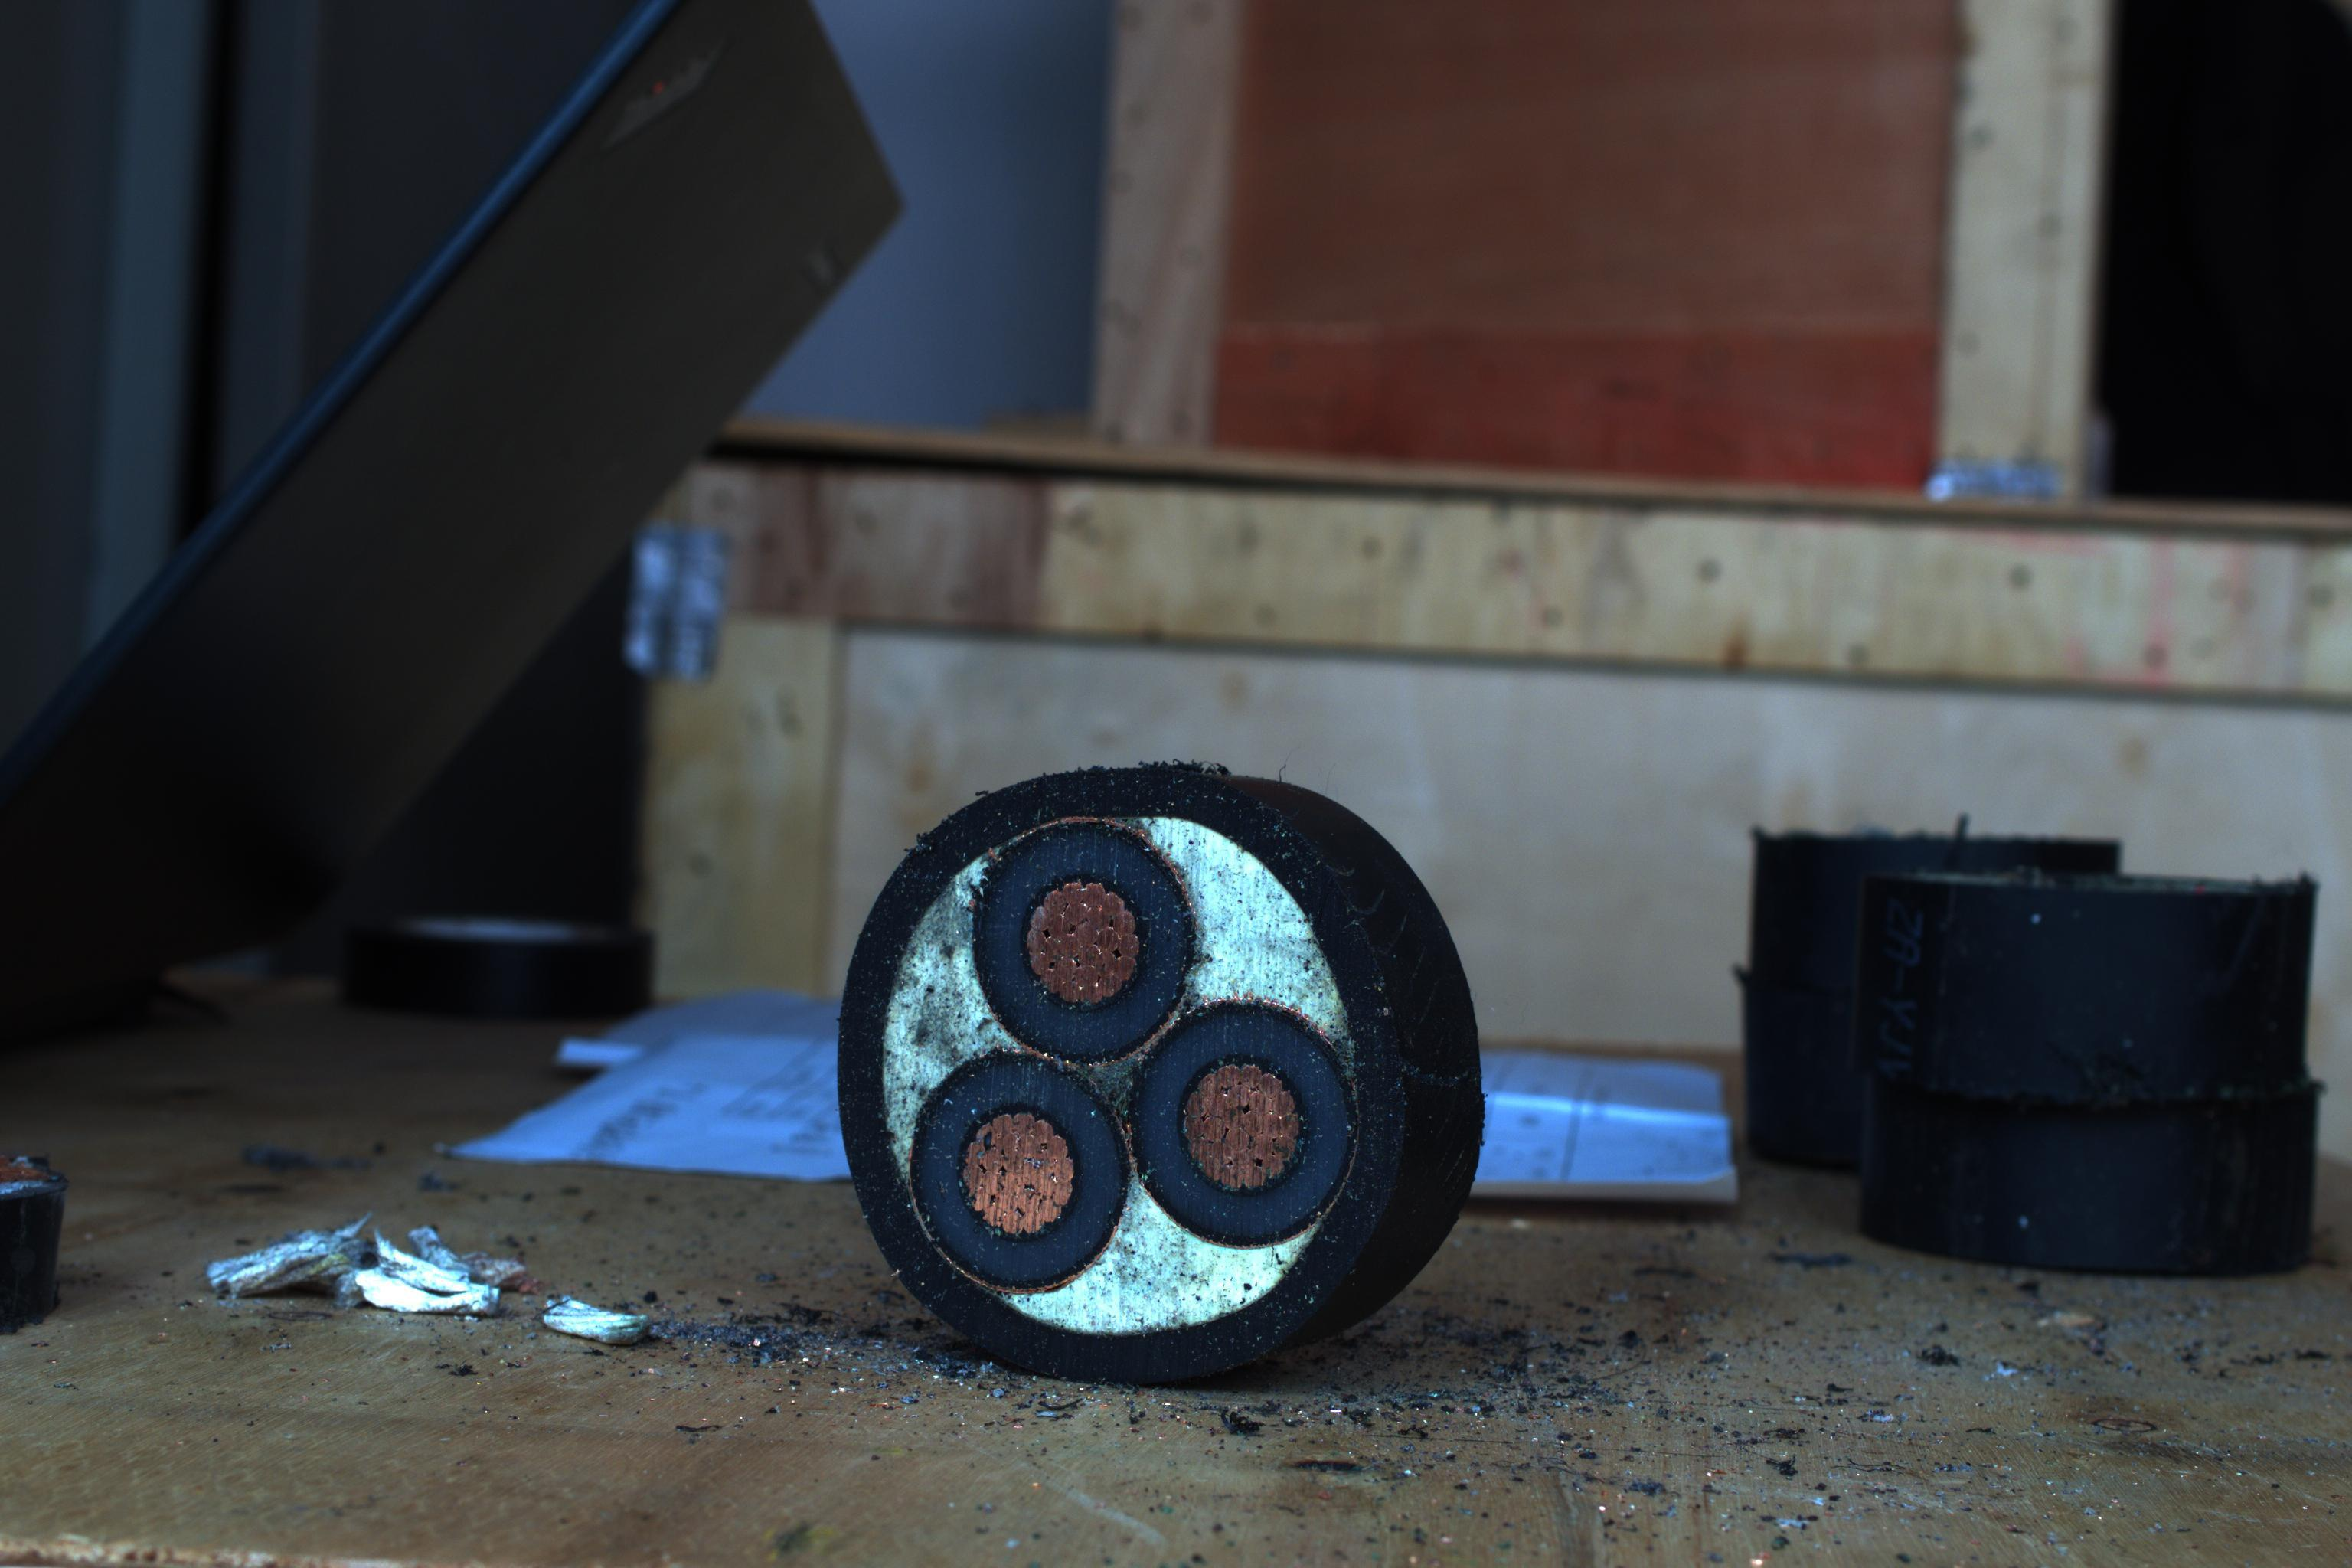ZA_YJV_8.7_10kV_3x120: (850, 780, 1375, 1354)
